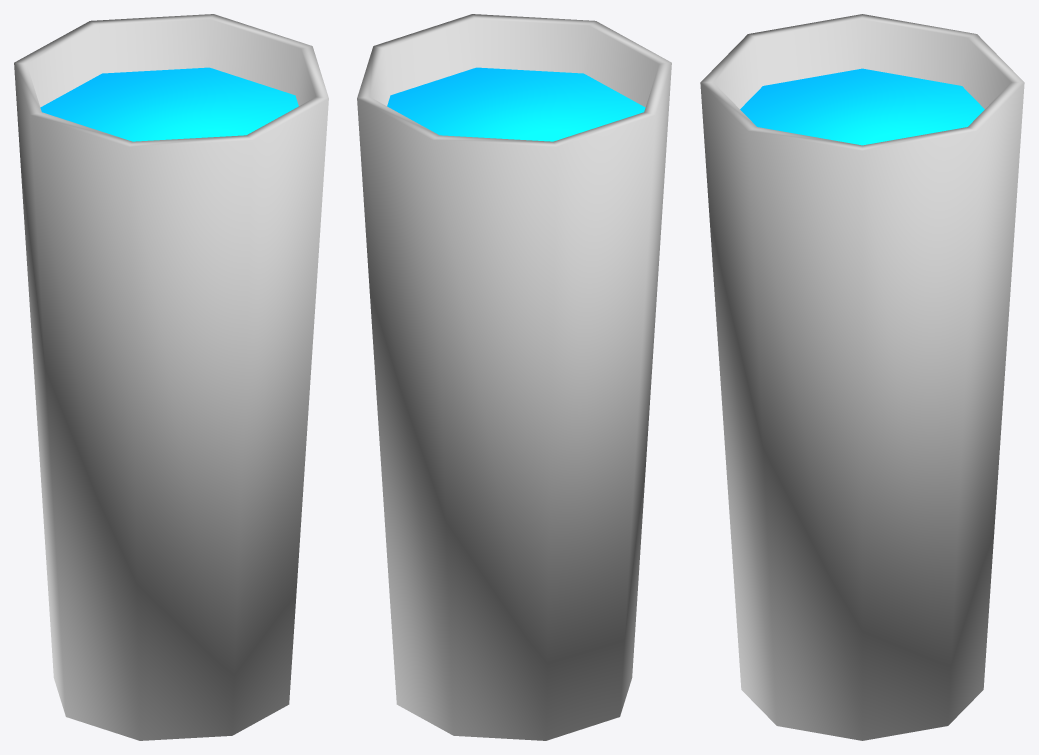
File: Hadouken.fbx
3 renders of one model, left to right at view 1: azimuth 30°, elevation 25°; view 2: azimuth 150°, elevation 25°; view 3: azimuth 270°, elevation 25°, orthographic.
Visible parts, largest first — view 1: hadouken_drink_au_en; view 2: hadouken_drink_au_en; view 3: hadouken_drink_au_en.
Boxes of the visible parts, x1=… form: hadouken_drink_au_en: x1=14, y1=14, x2=328, y2=740; hadouken_drink_au_en: x1=357, y1=14, x2=671, y2=740; hadouken_drink_au_en: x1=700, y1=14, x2=1024, y2=740.
Size of the model in its own units: 0.0659 by 0.1362 by 0.0659.
